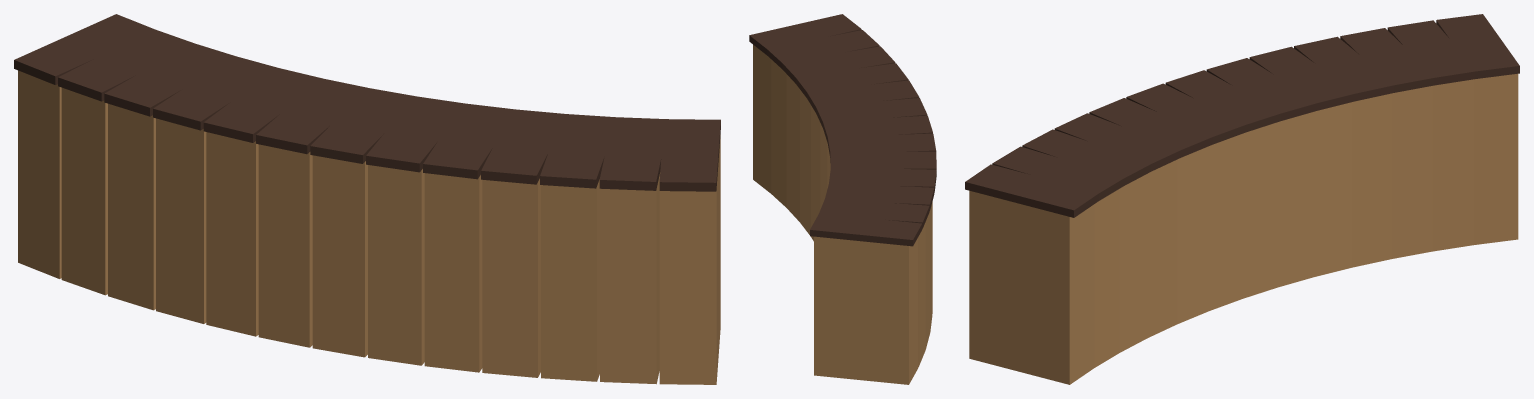
3 views of the same model, side by side, from view 1: azimuth 30°, elevation 25°; view 2: azimuth 150°, elevation 25°; view 3: azimuth 270°, elevation 25° (orthographic). The views are drawn at different scales.
Visible parts, largest first — view 1: mostrador_recepcion; view 2: mostrador_recepcion; view 3: mostrador_recepcion.
Part boxes in pixels (box(x1,y1,x2,y2)): mostrador_recepcion: box(14, 14, 720, 384); mostrador_recepcion: box(749, 14, 936, 384); mostrador_recepcion: box(965, 14, 1519, 384).
Size of the model in its own units: 2.76 by 3.29 by 1.15.
